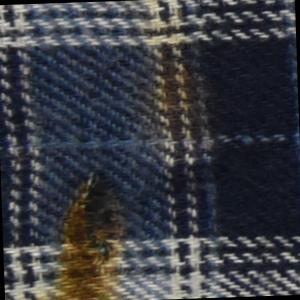Damage: (61, 170, 127, 281)
Oil Stain: (19, 182, 130, 300), (140, 1, 207, 153)
